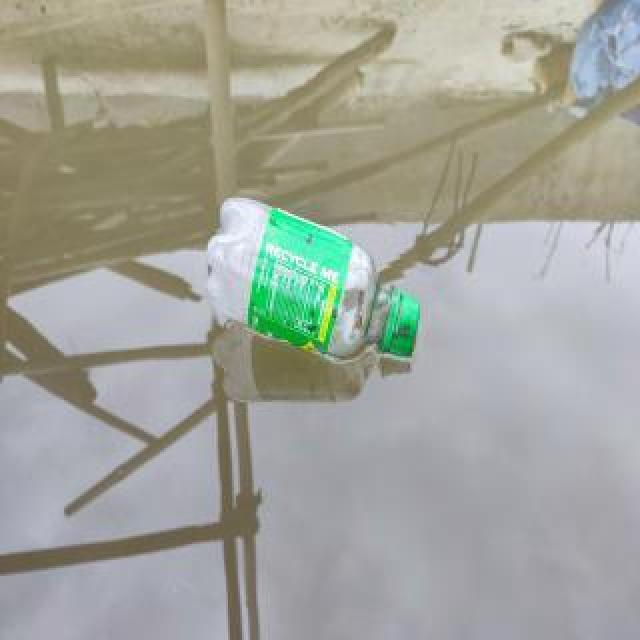bottle: (203, 192, 425, 366)
